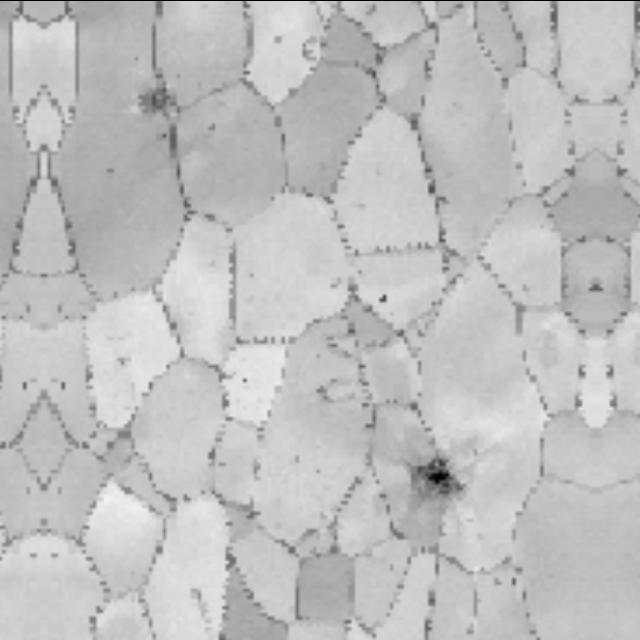good_void: (399, 432, 472, 505), (136, 72, 186, 137), (313, 374, 339, 403), (109, 351, 130, 366), (101, 162, 116, 178), (269, 33, 283, 46), (378, 293, 390, 304)
